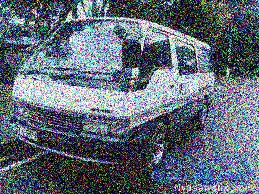van: (6, 13, 223, 166)
